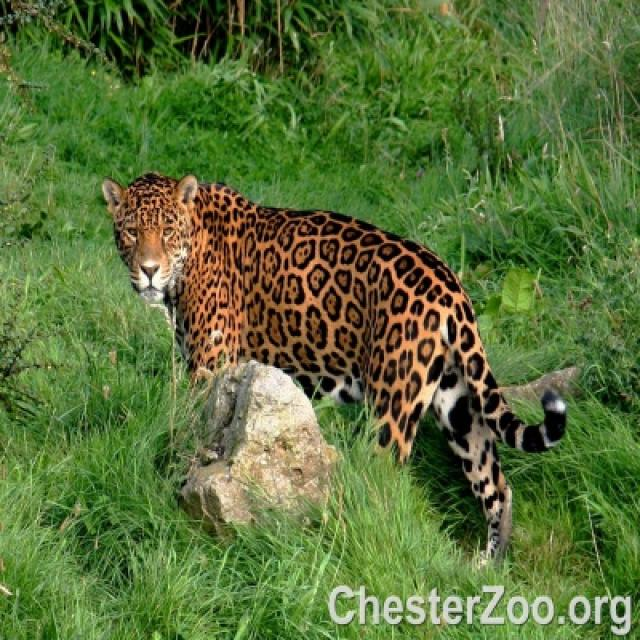Jaguar: (99, 173, 568, 562)
